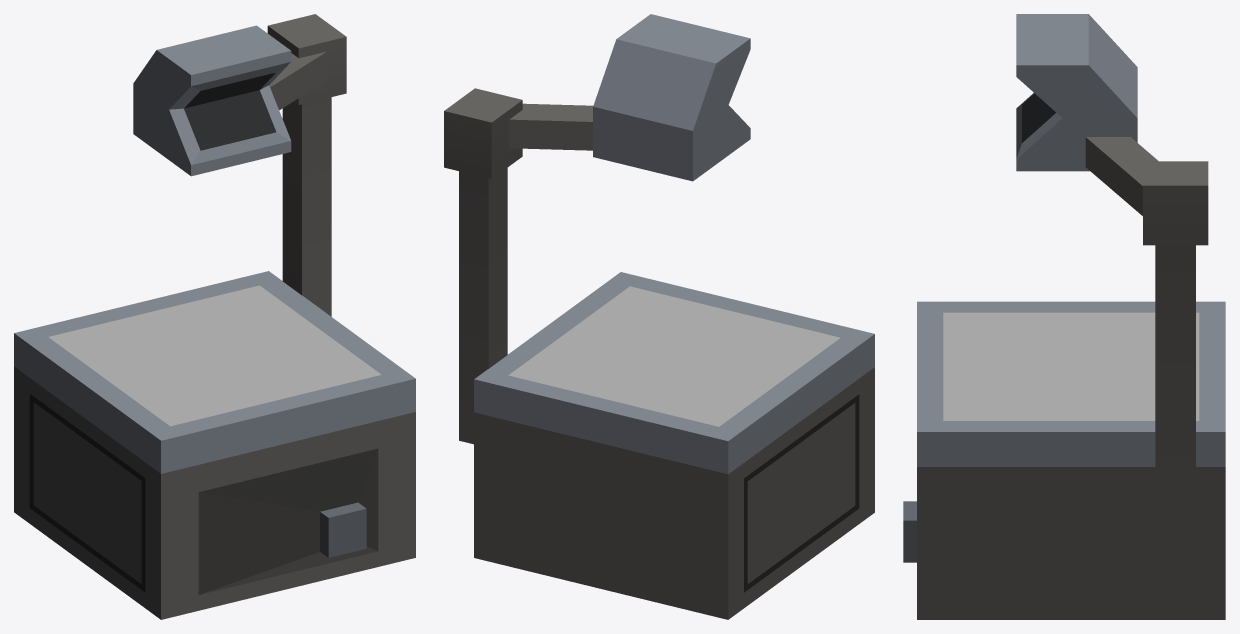
File: SO_OverheadProjector.fbx
3 renders of one model, left to right at view 1: azimuth 30°, elevation 25°; view 2: azimuth 150°, elevation 25°; view 3: azimuth 270°, elevation 25°, orthographic. The views are drawn at different scales.
Visible parts, largest first — view 1: SO_OverheadProjector; view 2: SO_OverheadProjector; view 3: SO_OverheadProjector.
Boxes of the visible parts, x1,y1,x2,y2 form: SO_OverheadProjector: (14,14,415,619); SO_OverheadProjector: (444,14,874,619); SO_OverheadProjector: (903,14,1225,619).
Bounding box in the file's own units: 0.9215 × 1.48 × 0.836.
